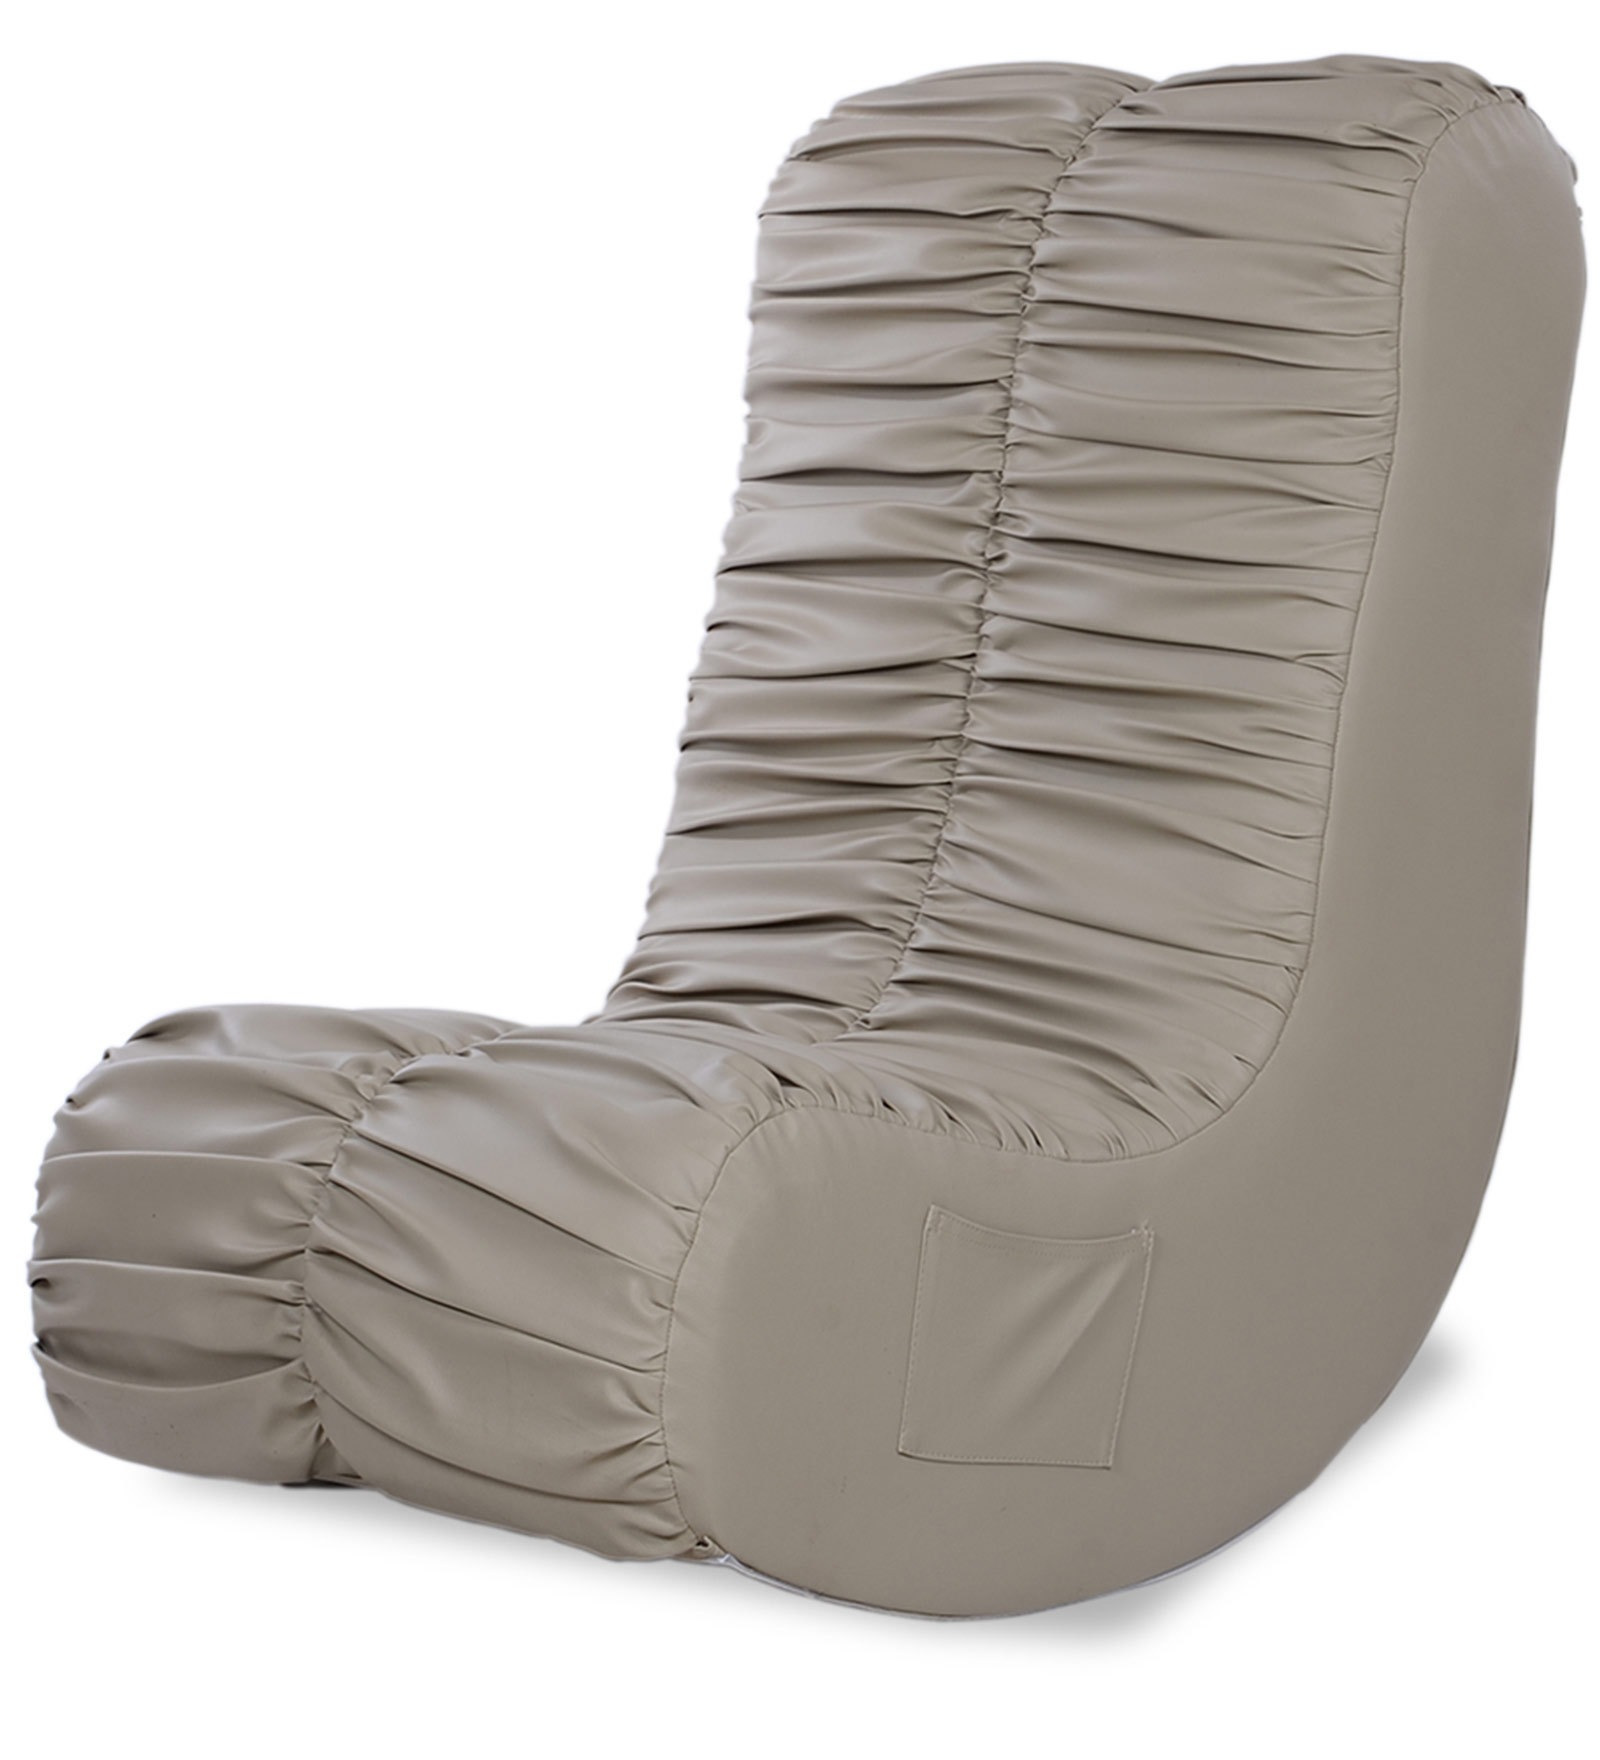Low Seat Rocking Chair in Beige Leatherette by Durian: (18, 43, 1565, 1617)
